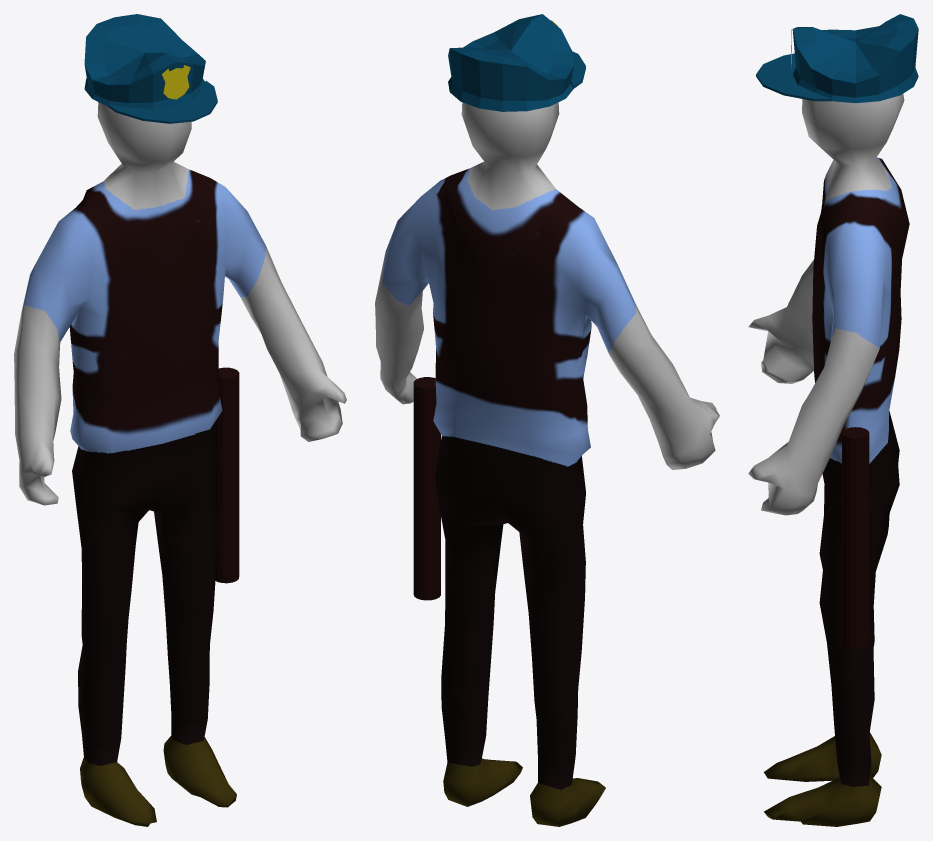
The model's file is Polizei_new.fbx.
3 renders of one model, left to right at view 1: azimuth 30°, elevation 25°; view 2: azimuth 150°, elevation 25°; view 3: azimuth 270°, elevation 25°, orthographic. The views are drawn at different scales.
Parts seen in each view (by area): view 1: Polizei, PoliceHat, Glob; view 2: Polizei, PoliceHat, Glob; view 3: Polizei, PoliceHat, Glob.
Part boxes in pixels (<box>): Polizei: <box>14,102,346,826</box>; PoliceHat: <box>84,14,217,123</box>; Glob: <box>214,367,239,583</box>; Polizei: <box>375,102,719,826</box>; PoliceHat: <box>448,14,585,111</box>; Glob: <box>413,377,440,600</box>; Polizei: <box>748,94,909,826</box>; PoliceHat: <box>756,14,918,103</box>; Glob: <box>842,427,869,648</box>.
Bounding box in the file's own units: 81.87 × 185 × 37.22.
2 materials, 2 textured.
